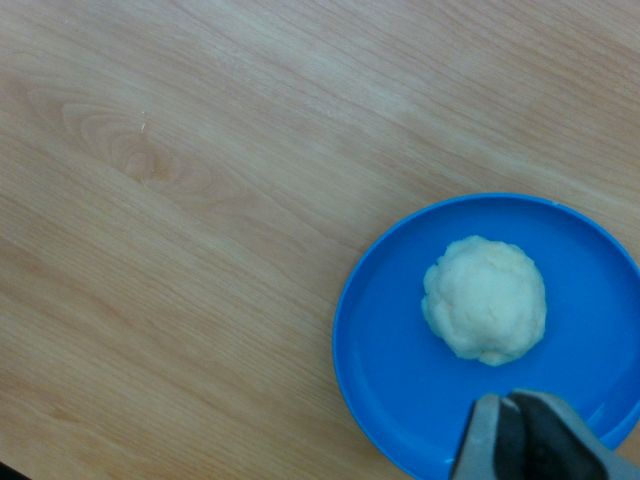mashed_potato: (423, 236, 546, 365)
